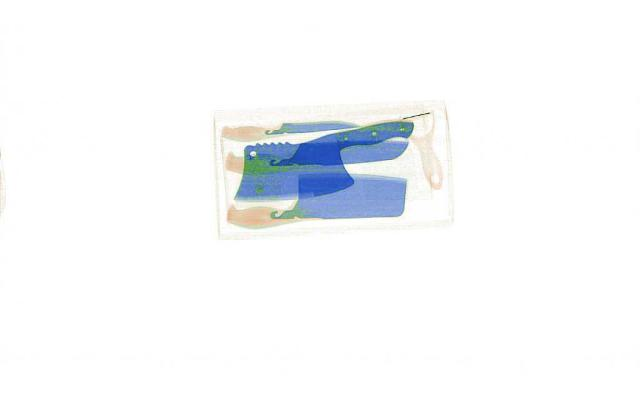Knife: (212, 118, 434, 206), (263, 116, 357, 134)
